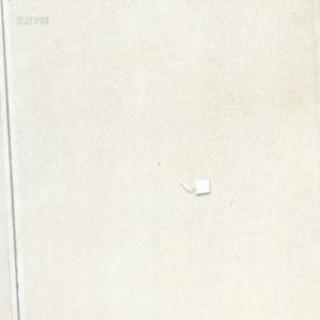LuggageTagtrack_idkeyframe: (178, 176, 209, 194)
